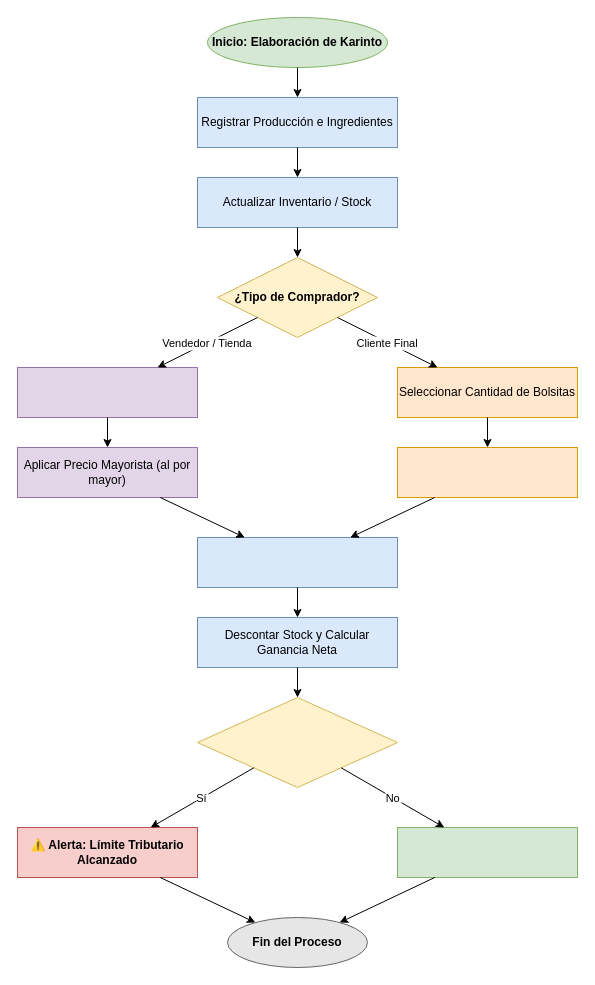
Image size: 595x985. Some labels were removed from this diagram. The centre of each missing label's shape, as x and y in pixels:
"Aplicar Precio Minorista (2 Bs/bolsa)" goes at pixel 487 472.
"Procesar Venta y Generar Comprobante Interno" goes at pixel 297 562.
"Registrar Vendedor / Tienda" goes at pixel 107 392.
"Registro Interno Normal" goes at pixel 487 852.
"¿Ganancia Acumulada >= 1.500 Bs?" goes at pixel 297 742.
